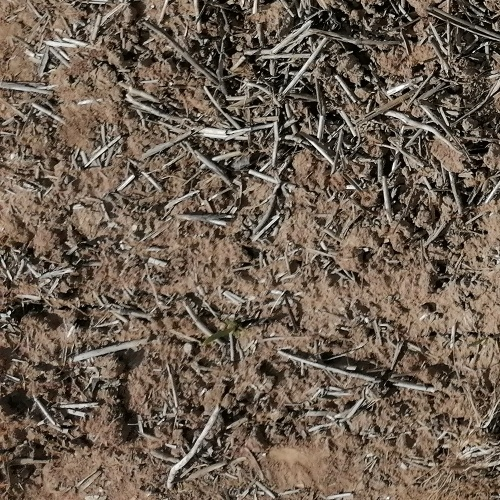beet: (202, 317, 243, 346)
